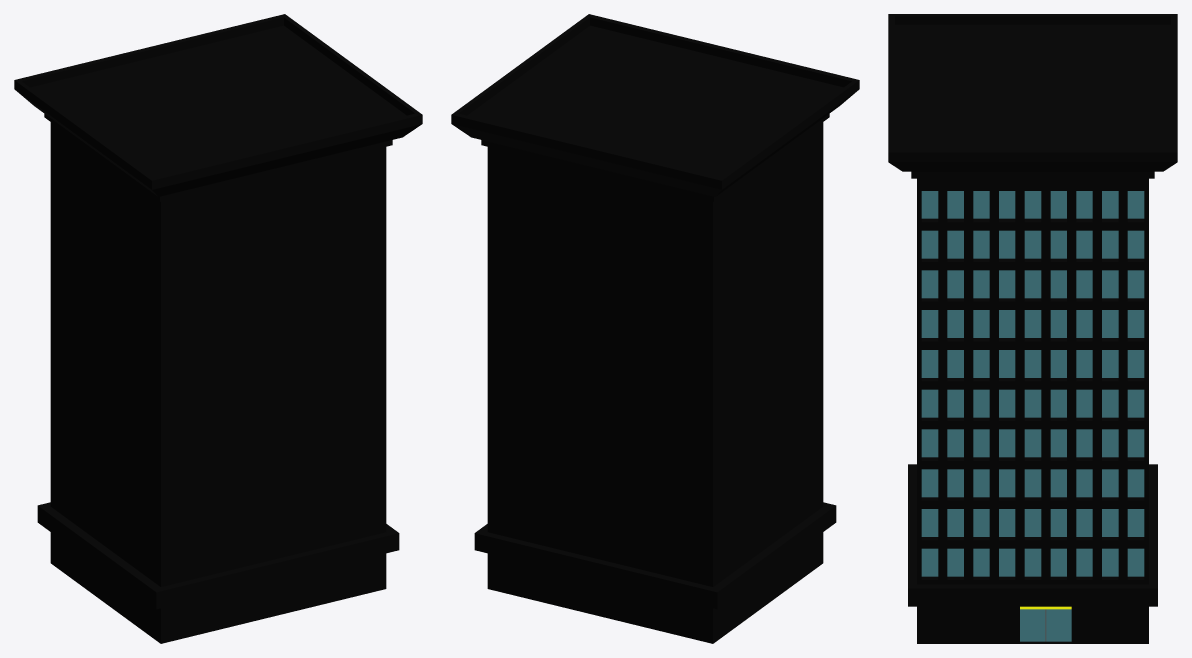
The model's file is building_4.fbx.
The picture shows the model from 3 angles, left to right: view 1: azimuth 30°, elevation 25°; view 2: azimuth 150°, elevation 25°; view 3: azimuth 270°, elevation 25°; orthographic projection. The views are drawn at different scales.
Visible parts, largest first — view 1: Building11; view 2: Building11; view 3: Building11.
Boxes of the visible parts, left/top/right/bottom form: Building11: left=14, top=14, right=422, bottom=643; Building11: left=451, top=14, right=859, bottom=643; Building11: left=888, top=14, right=1177, bottom=643.
Size of the model in its own units: 934 by 1578 by 823.
